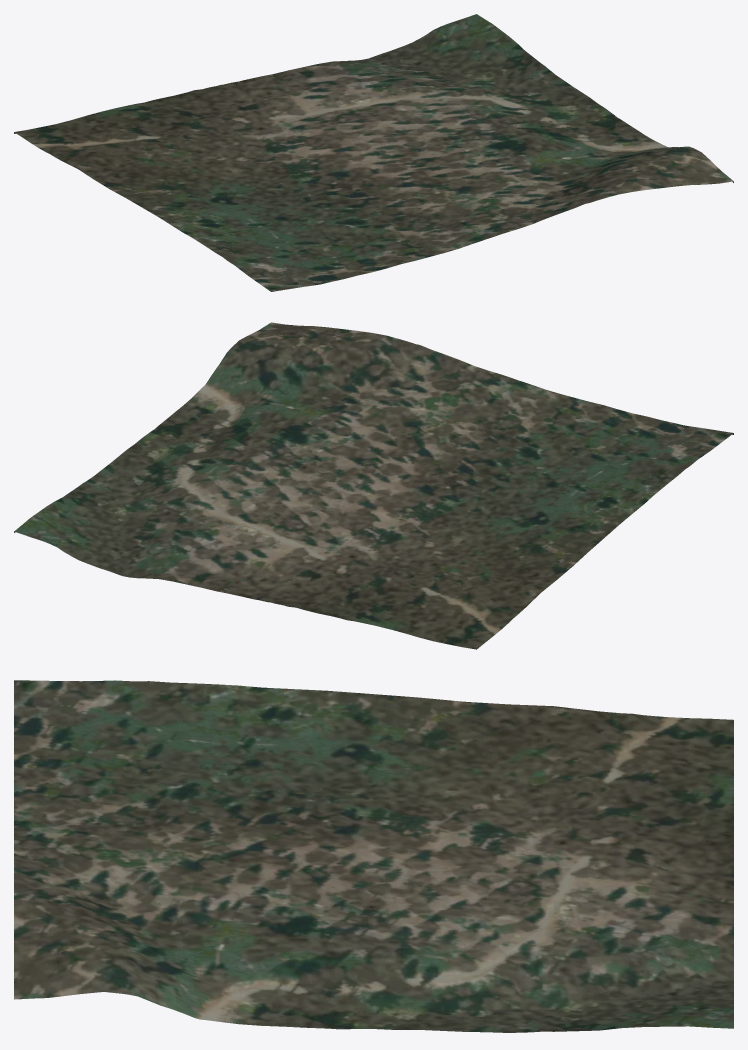
3 views of the same model, one above another, from view 1: azimuth 30°, elevation 25°; view 2: azimuth 150°, elevation 25°; view 3: azimuth 270°, elevation 25° (orthographic). The views are drawn at different scales.
Bounding box in the file's own units: 250 × 28.89 × 241.
Materials: 1 (1 with a texture image).
